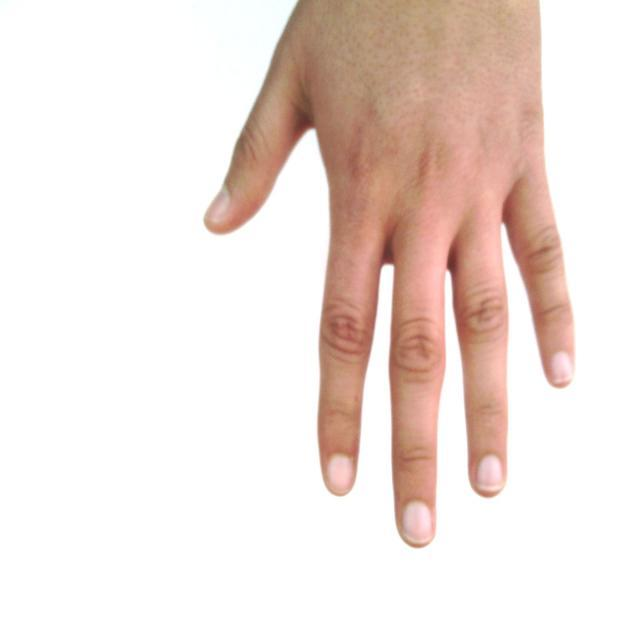Fingernail: (404, 502, 432, 543), (328, 456, 353, 494), (478, 456, 503, 490), (207, 189, 229, 220), (551, 353, 572, 384)
